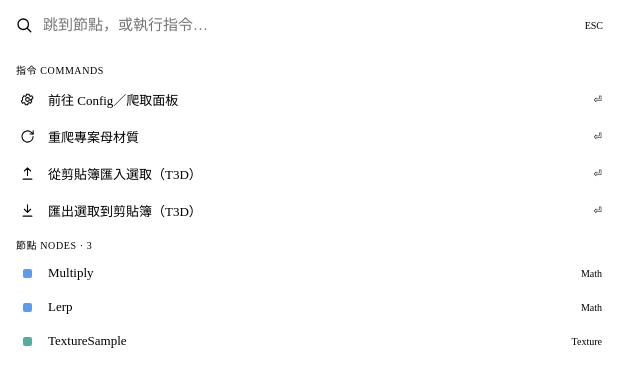
Scenario: CommandPalette › typing in the input filters commands to matching ones
The width and height of the screenshot is (620, 365).
In the field with placeholder "跳到節點，或執行指令…": [309, 25] box [43,16,575,34], type "config"
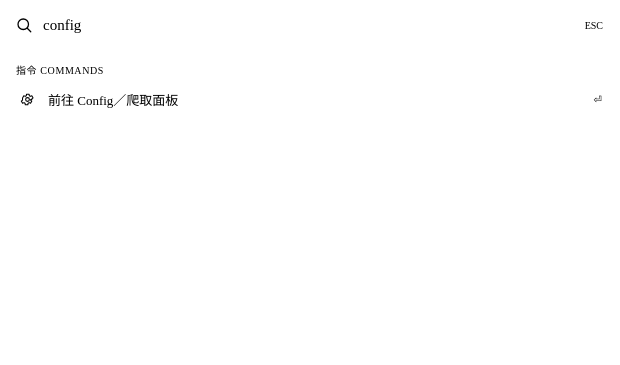
Expected: the text "前往 Config／爬取面板" is shown, [48,93,178,108]
Now the text "匯出選取到剪貼簿（T3D）" is gone
